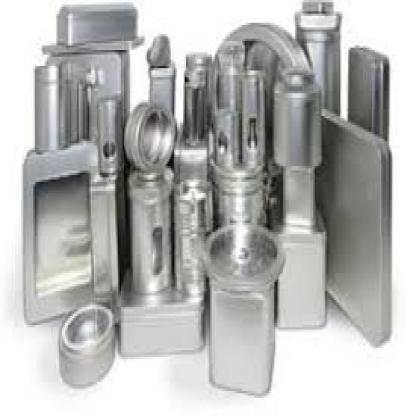METAL: (316, 102, 390, 348), (21, 146, 115, 325), (271, 68, 327, 328), (212, 21, 310, 159), (45, 52, 130, 159), (207, 278, 274, 395), (117, 264, 204, 354), (126, 166, 172, 298), (89, 170, 127, 328), (201, 220, 283, 286), (293, 0, 339, 116), (59, 302, 116, 386), (171, 121, 212, 230), (209, 155, 266, 227), (346, 41, 388, 136), (122, 102, 172, 178), (172, 182, 204, 295), (213, 41, 240, 161), (55, 2, 136, 39), (184, 52, 208, 146), (33, 63, 59, 148), (148, 59, 172, 143), (96, 96, 120, 178), (244, 70, 262, 164), (212, 109, 234, 166), (41, 39, 141, 50), (59, 64, 68, 150), (68, 62, 77, 144), (146, 32, 166, 61), (77, 64, 83, 138)
